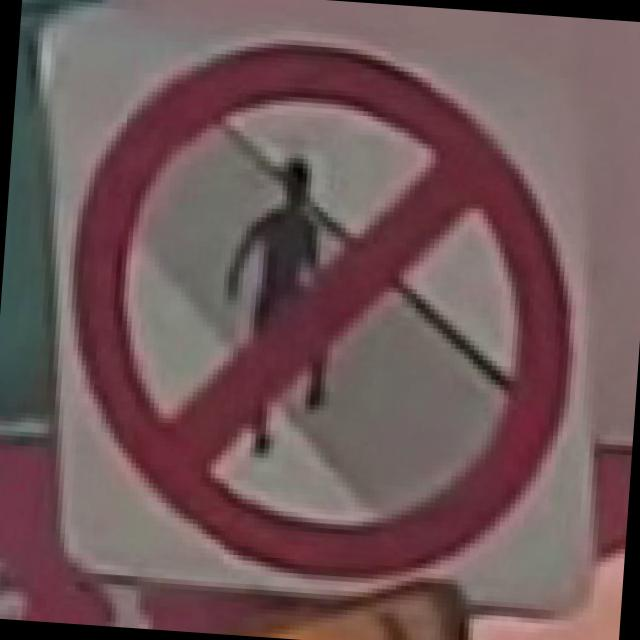nojaywalking_sign: (4, 0, 637, 622)
